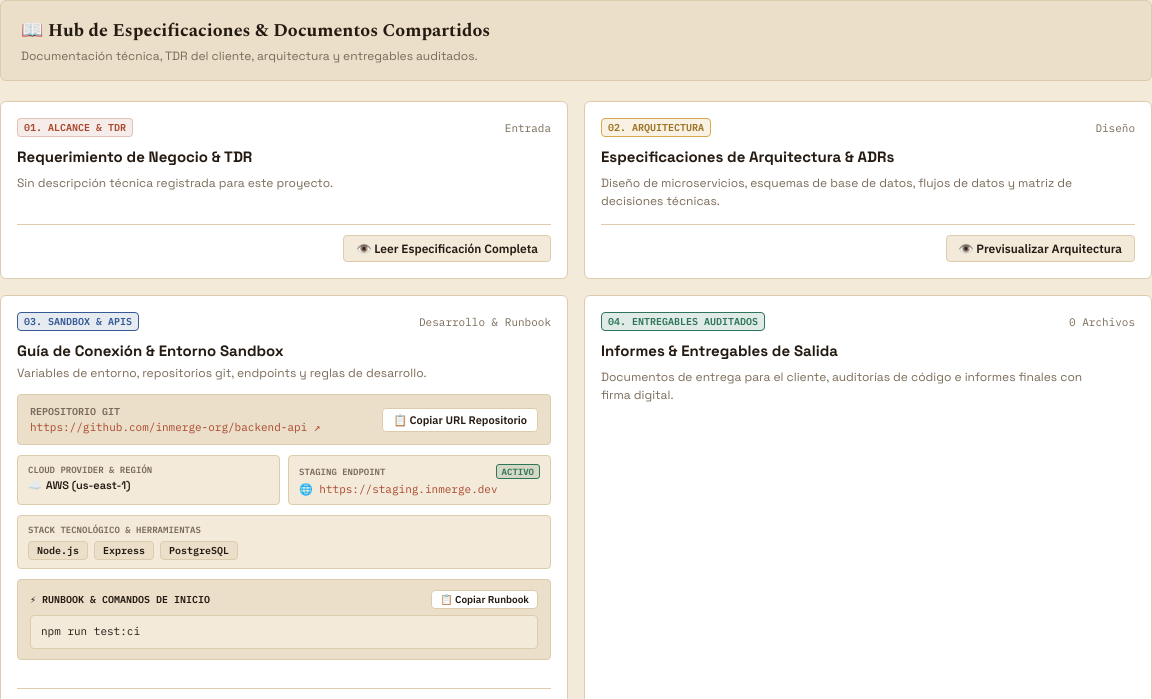
Scenario: ProjectDocumentHub › permite copiar la URL del repositorio con feedback visual temporal
Click the button "📋 Copiar URL Repositorio" at (460, 420), box 382,408 -> 538,432
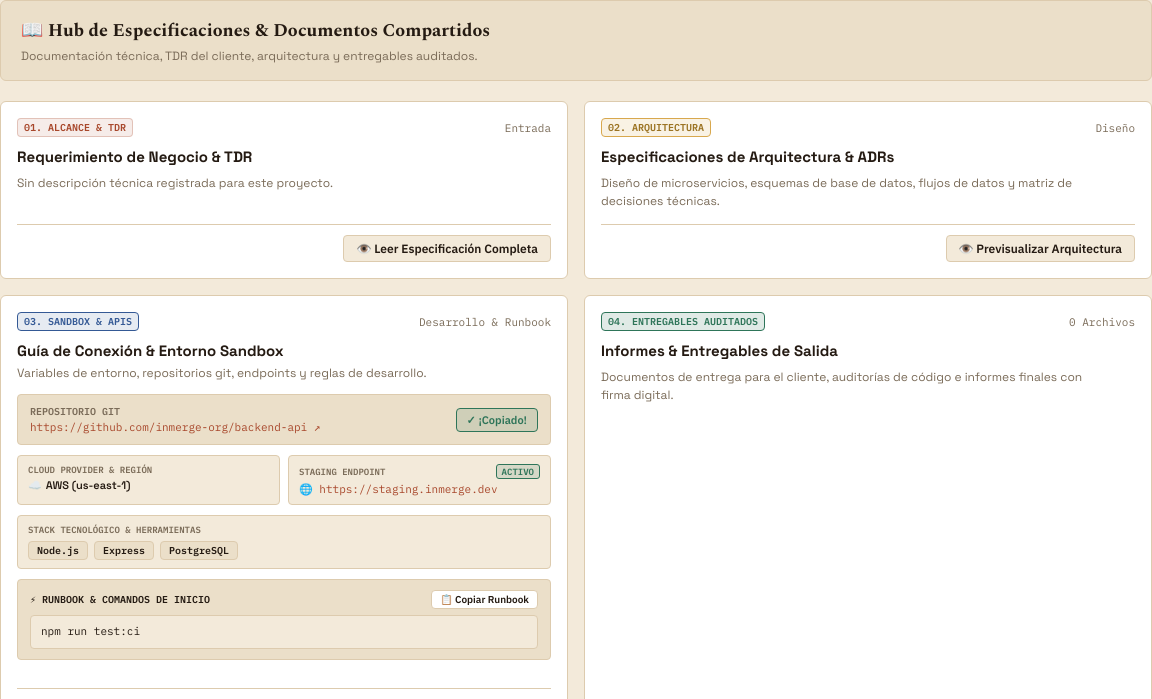
Expected: the button "✓ ¡Copiado!" is shown, 456,408 -> 538,432
